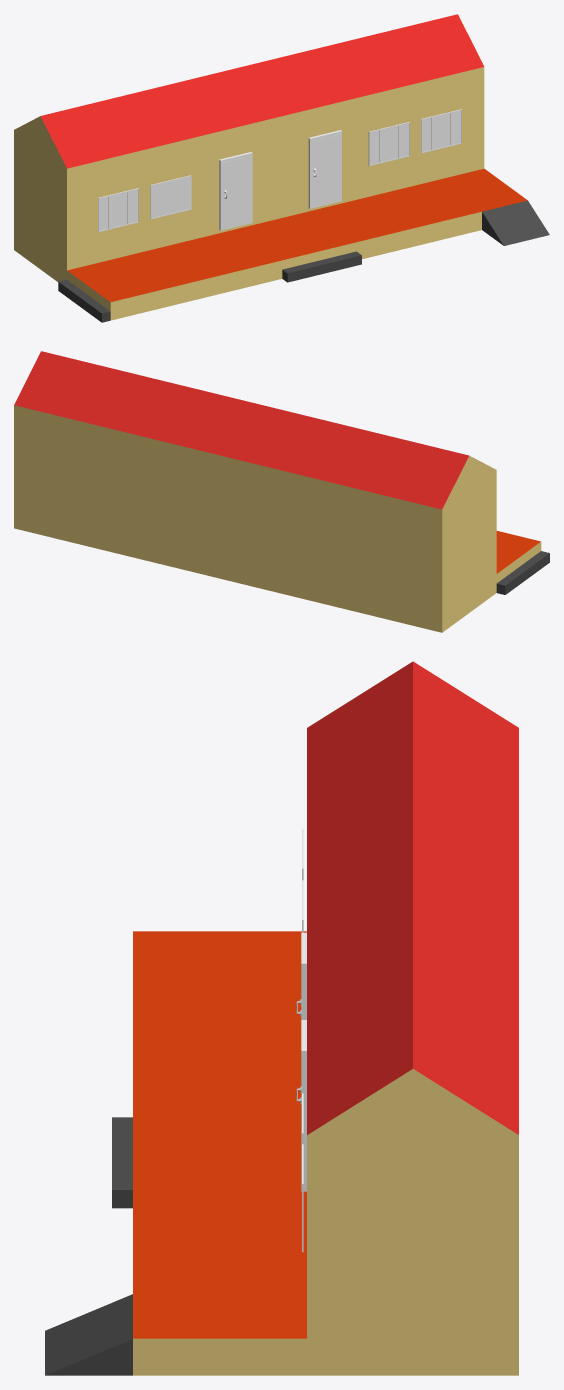
The model's file is CHEBlock.glb.
3 renders of one model, top to bottom at view 1: azimuth 30°, elevation 25°; view 2: azimuth 150°, elevation 25°; view 3: azimuth 270°, elevation 25°, orthographic. The views are drawn at different scales.
Visible parts, largest first — view 1: Plane, Door.001, Door, Window.001, Window.003, Window, Window.002, DoorFrame, DoorFrame.001; view 2: Plane; view 3: Plane, DoorFrame.001.
Part boxes in pixels (x1,y1,x2,y2): Plane: [14, 14, 549, 322]; Door.001: [312, 134, 339, 207]; Door: [223, 156, 249, 229]; Window.001: [150, 175, 191, 219]; Window.003: [368, 122, 409, 166]; Window: [98, 188, 138, 232]; Window.002: [421, 109, 461, 153]; DoorFrame: [219, 152, 252, 230]; DoorFrame.001: [308, 130, 341, 208]; Plane: [14, 351, 549, 632]; Plane: [45, 661, 518, 1375]; DoorFrame.001: [301, 1020, 306, 1191].
Size of the model in its own units: 26.13 by 8.99 by 12.6.
